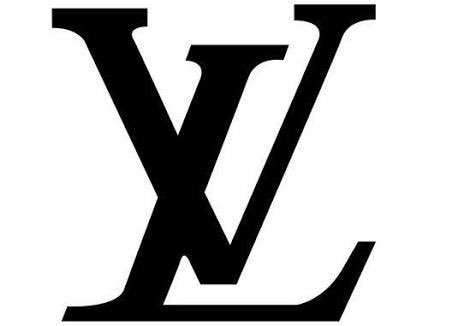LOUIS-VUITTON: (43, 5, 376, 323)
